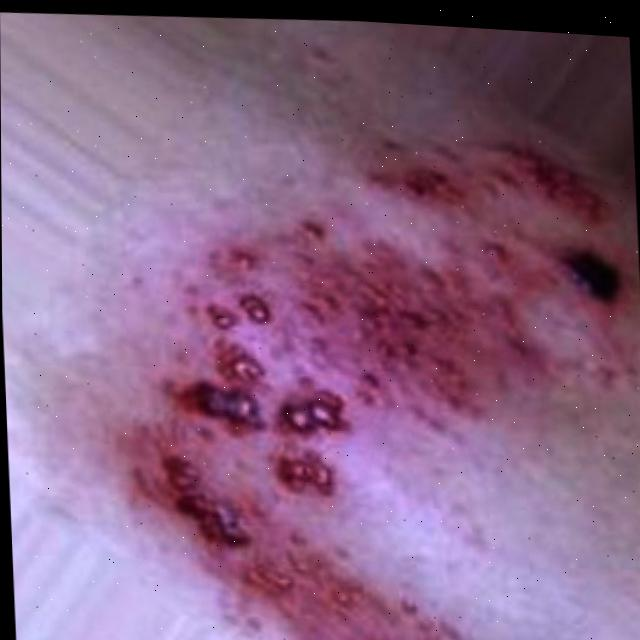Shingles: (107, 105, 637, 640)
